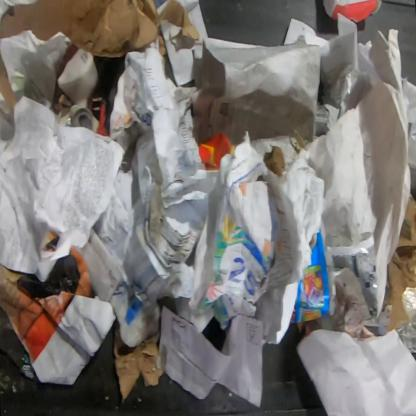cardboard: (113, 318, 163, 404), (385, 192, 415, 333)
metal: (66, 104, 100, 134)
rigid_plastic: (0, 304, 37, 380), (323, 0, 382, 23)
soft_plastic: (396, 287, 415, 354)
